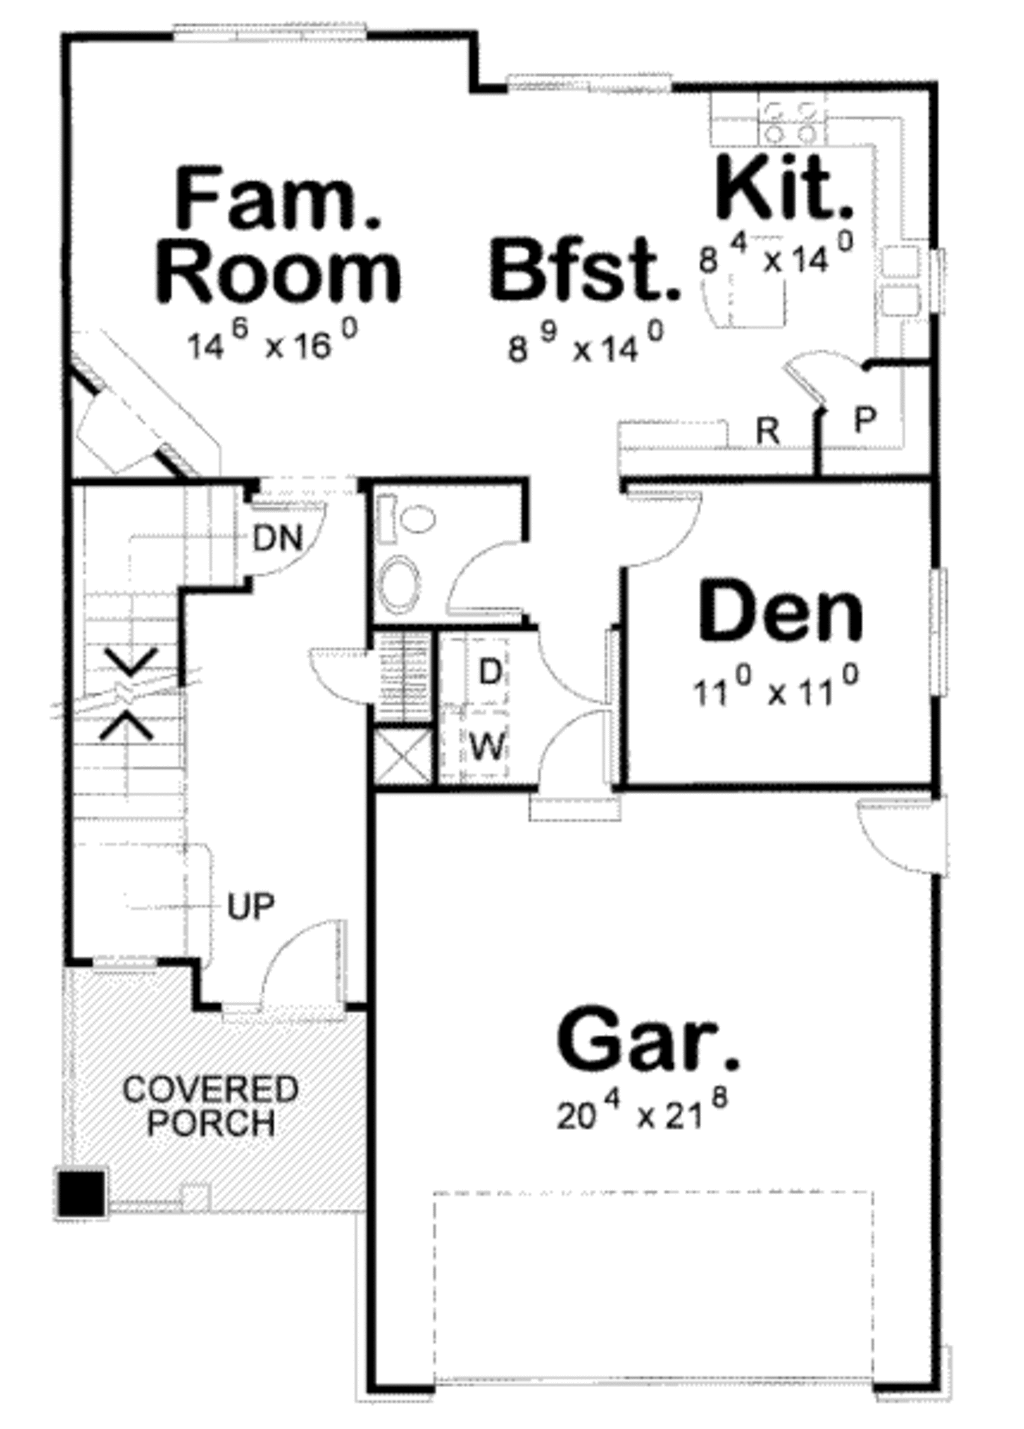door: (847, 772, 958, 883), (532, 709, 634, 822), (247, 914, 350, 1016), (521, 616, 626, 709), (441, 542, 547, 627), (769, 335, 866, 418), (626, 492, 715, 570), (256, 494, 330, 580), (300, 642, 387, 715)
large_sink: (369, 483, 447, 551)
small_sink: (378, 557, 408, 590)
stairs: (82, 492, 254, 959)
twin_sink: (874, 240, 943, 329)
window: (176, 22, 387, 53), (510, 64, 678, 103), (928, 561, 956, 716)
